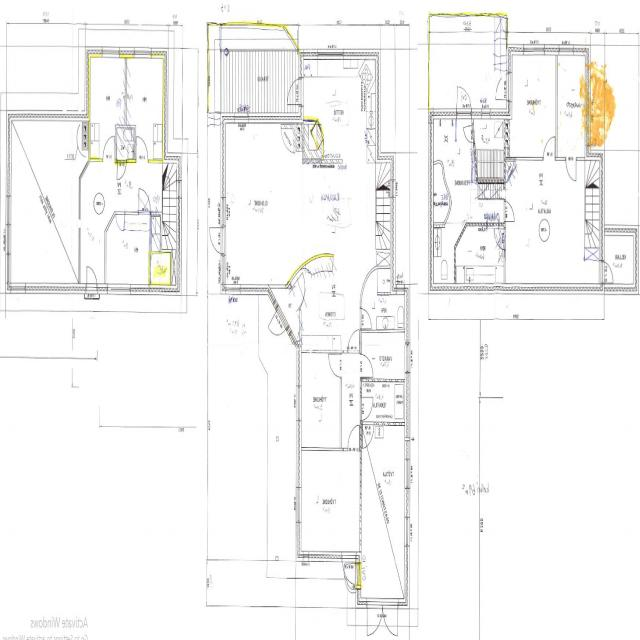door: (266, 304, 288, 348), (367, 598, 383, 640), (383, 598, 398, 640), (457, 79, 471, 119), (342, 551, 356, 588), (207, 227, 226, 253), (286, 78, 304, 105), (494, 74, 512, 100), (344, 563, 362, 586), (328, 354, 342, 378), (136, 136, 148, 163), (599, 262, 615, 282), (543, 134, 555, 160), (87, 263, 97, 294), (360, 397, 373, 420), (360, 355, 373, 377), (348, 424, 359, 450), (348, 327, 359, 353), (362, 422, 373, 447), (104, 138, 115, 163), (504, 200, 516, 222), (360, 308, 372, 329), (566, 157, 576, 180), (464, 125, 474, 143), (116, 212, 125, 232), (152, 233, 161, 253)
